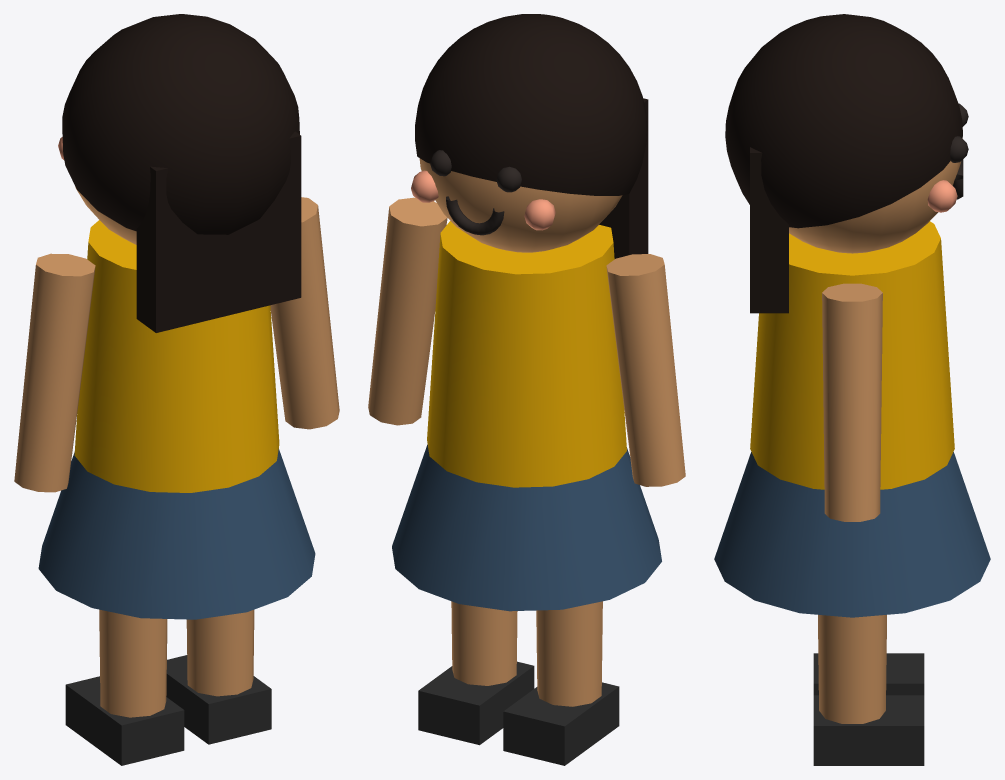
File: person_f2b300.fbx
The picture shows the model from 3 angles, left to right: view 1: azimuth 30°, elevation 25°; view 2: azimuth 150°, elevation 25°; view 3: azimuth 270°, elevation 25°; orthographic projection. The views are drawn at different scales.
Visible parts, largest first — view 1: M__person_f2b300-body, M__person_f2b300-armL, M__person_f2b300-shinL, M__person_f2b300-shinR, M__person_f2b300-armR, M__person_f2b300-legL; view 2: M__person_f2b300-body, M__person_f2b300-armL, M__person_f2b300-armR, M__person_f2b300-shinL, M__person_f2b300-shinR, M__person_f2b300-legL; view 3: M__person_f2b300-body, M__person_f2b300-armR, M__person_f2b300-shinR, M__person_f2b300-shinL, M__person_f2b300-legR.
Part boxes in pixels (box(x1,y1,x2,y2)): M__person_f2b300-body: box(38, 14, 315, 619); M__person_f2b300-armL: box(14, 253, 95, 492); M__person_f2b300-shinL: box(65, 615, 184, 765); M__person_f2b300-shinR: box(166, 610, 271, 744); M__person_f2b300-armR: box(270, 197, 339, 429); M__person_f2b300-legL: box(99, 609, 163, 626); M__person_f2b300-body: box(392, 14, 661, 611); M__person_f2b300-armL: box(606, 254, 685, 486); M__person_f2b300-armR: box(368, 197, 447, 425); M__person_f2b300-shinL: box(503, 607, 619, 765); M__person_f2b300-shinR: box(418, 601, 534, 745); M__person_f2b300-legL: box(540, 601, 602, 618); M__person_f2b300-body: box(714, 14, 990, 617); M__person_f2b300-armR: box(822, 283, 882, 521); M__person_f2b300-shinR: box(813, 621, 924, 765); M__person_f2b300-shinL: box(813, 653, 924, 695); M__person_f2b300-legR: box(818, 615, 886, 634).
Bounding box in the file's own units: 0.6547 × 1.4 × 0.5.
